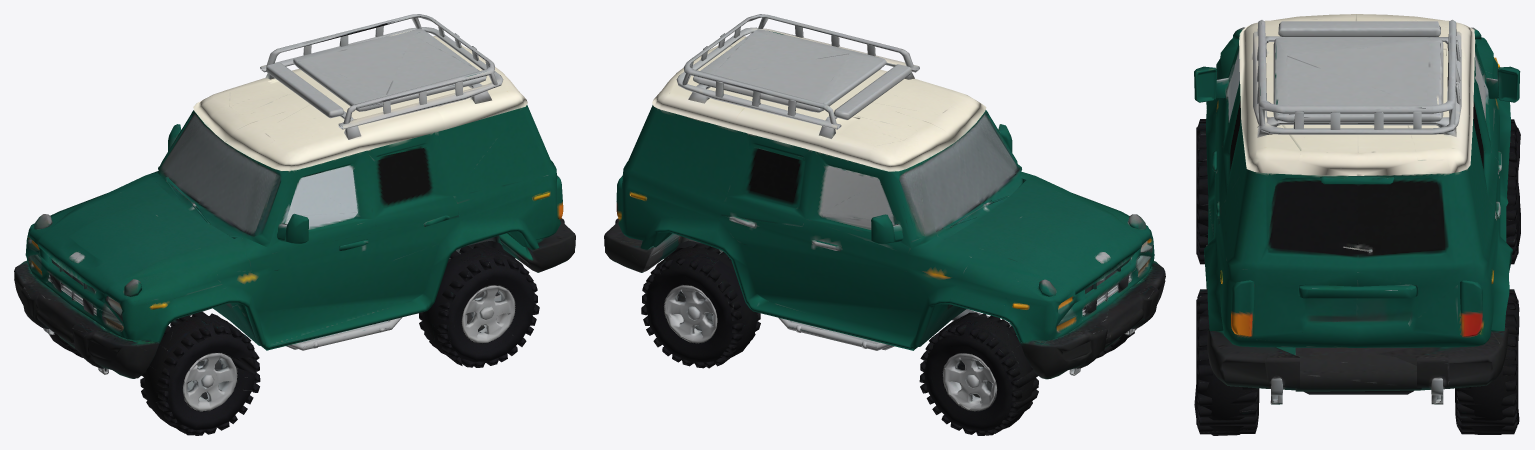
File: trafficSuv.6f68520b.glb
The picture shows the model from 3 angles, left to right: view 1: azimuth 30°, elevation 25°; view 2: azimuth 150°, elevation 25°; view 3: azimuth 270°, elevation 25°; orthographic projection. The views are drawn at different scales.
Size of the model in its own units: 0.9585 by 0.5225 by 0.4507.
1 material, 1 textured.
